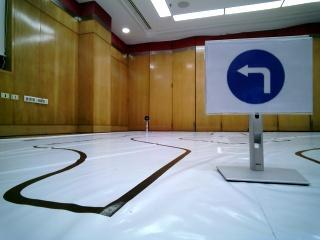left: (208, 40, 311, 114)
